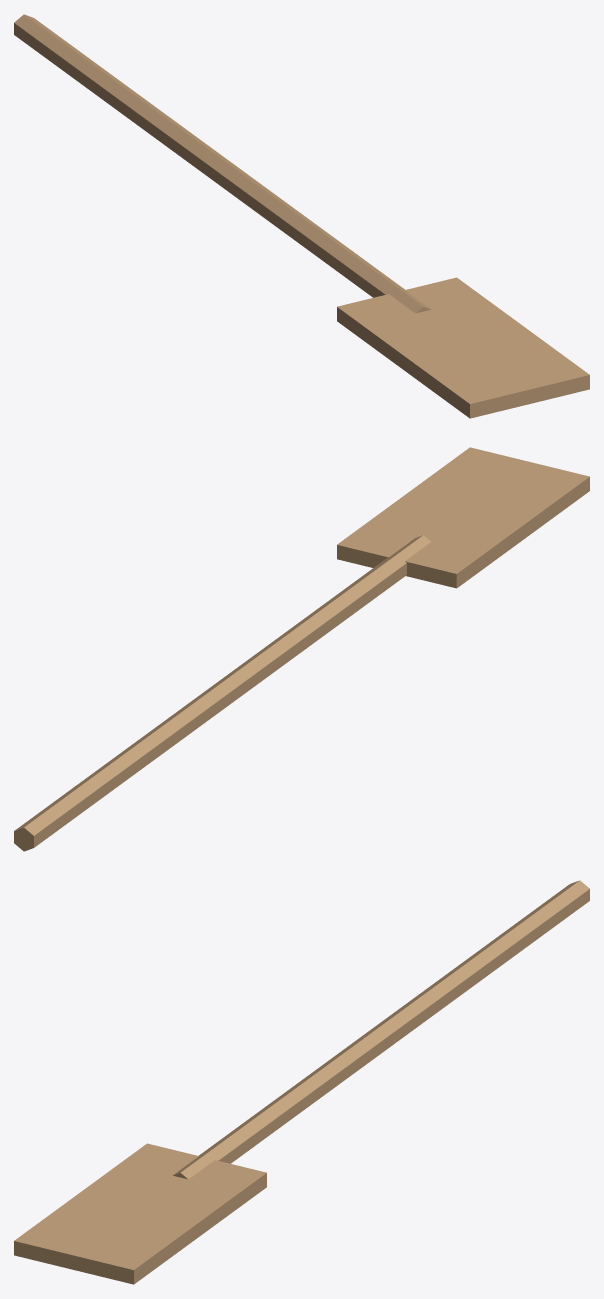
File: Oar.fbx
3 views of the same model, one above another, from view 1: azimuth 30°, elevation 25°; view 2: azimuth 150°, elevation 25°; view 3: azimuth 330°, elevation 25° (orthographic).
Parts seen in each view (by area): view 1: Body; view 2: Body; view 3: Body.
Part boxes in pixels (x1=…): Body: x1=14, y1=14, x2=589, y2=418; Body: x1=14, y1=447, x2=589, y2=851; Body: x1=14, y1=880, x2=589, y2=1284.
Size of the model in its own units: 0.26 by 0.05 by 1.9.
